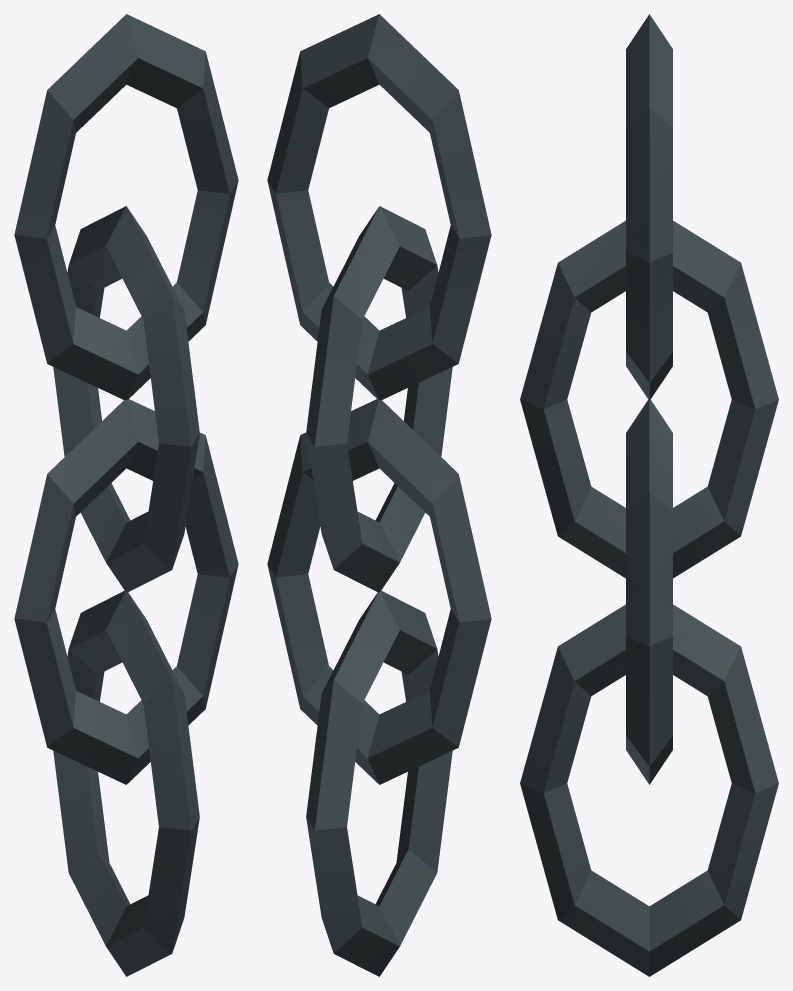
Rendered from chain_1m.glb.
3 renders of one model, left to right at view 1: azimuth 30°, elevation 25°; view 2: azimuth 150°, elevation 25°; view 3: azimuth 270°, elevation 25°, orthographic.
Visible parts, largest first — view 1: chain_1m; view 2: chain_1m; view 3: chain_1m.
Boxes of the visible parts, <box> form: chain_1m: <box>14,14,238,976</box>; chain_1m: <box>267,14,491,976</box>; chain_1m: <box>520,14,778,976</box>.
Bounding box in the file's own units: 0.318 × 1.3 × 0.318.
1 material, 1 textured.
